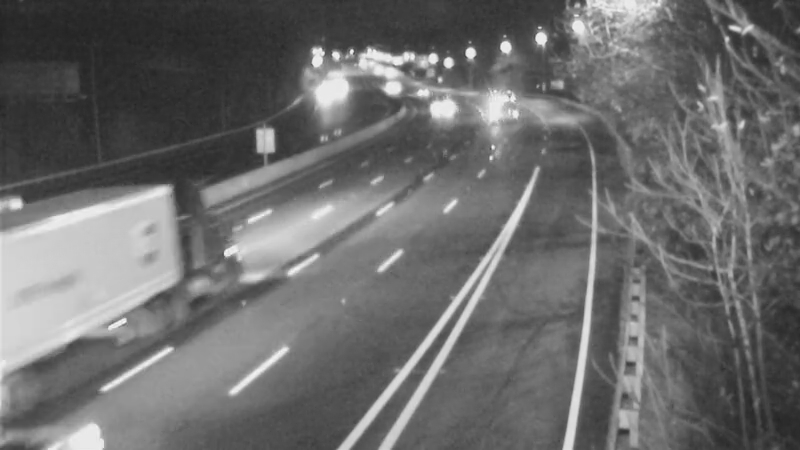vehicle: (64, 233, 144, 313), (362, 61, 412, 111), (397, 70, 447, 120), (471, 82, 521, 132), (416, 84, 466, 134)
